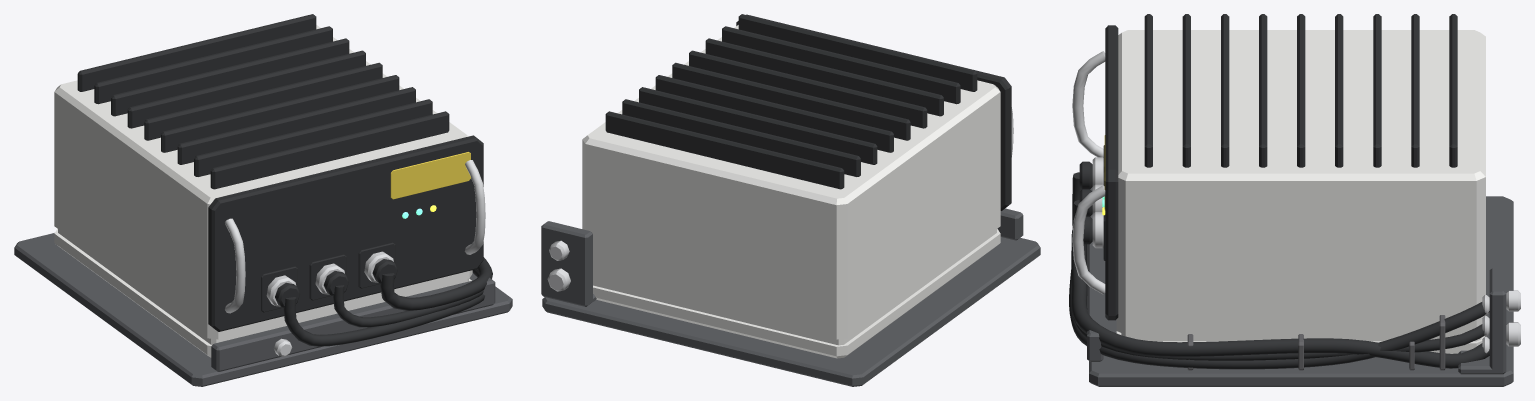
File: eqm03_avionics_box.glb
3 renders of one model, left to right at view 1: azimuth 30°, elevation 25°; view 2: azimuth 150°, elevation 25°; view 3: azimuth 270°, elevation 25°, orthographic. The views are drawn at different scales.
Visible parts, largest first — view 1: eqm03_chassis, eqm03_front_panel, eqm03_cold_plate, eqm03_harness, eqm03_connectors, eqm03_handles; view 2: eqm03_chassis, eqm03_cold_plate, eqm03_bulkhead_bracket, eqm03_front_panel, eqm03_port_bulkhead; view 3: eqm03_chassis, eqm03_harness, eqm03_cold_plate, eqm03_front_panel, eqm03_handles, eqm03_bulkhead_bracket, eqm03_connectors, eqm03_port_bulkhead.
Part boxes in pixels (<box>): eqm03_chassis: <box>54,14,472,357</box>; eqm03_front_panel: <box>208,135,483,331</box>; eqm03_cold_plate: <box>14,233,512,386</box>; eqm03_harness: <box>283,257,492,346</box>; eqm03_connectors: <box>261,242,397,312</box>; eqm03_handles: <box>225,160,485,313</box>; eqm03_chassis: <box>582,14,1000,358</box>; eqm03_cold_plate: <box>542,208,1040,386</box>; eqm03_bulkhead_bracket: <box>541,221,596,306</box>; eqm03_front_panel: <box>736,14,1011,210</box>; eqm03_port_bulkhead: <box>547,240,570,291</box>; eqm03_chassis: <box>1116,14,1485,353</box>; eqm03_harness: <box>1069,172,1489,370</box>; eqm03_cold_plate: <box>1087,187,1513,386</box>; eqm03_front_panel: <box>1102,25,1118,320</box>; eqm03_handles: <box>1072,51,1105,294</box>; eqm03_bulkhead_bracket: <box>1458,267,1506,374</box>; eqm03_connectors: <box>1079,145,1105,260</box>; eqm03_port_bulkhead: <box>1506,290,1520,346</box>.
Size of the model in its own units: 0.462 by 0.262 by 0.4895.
